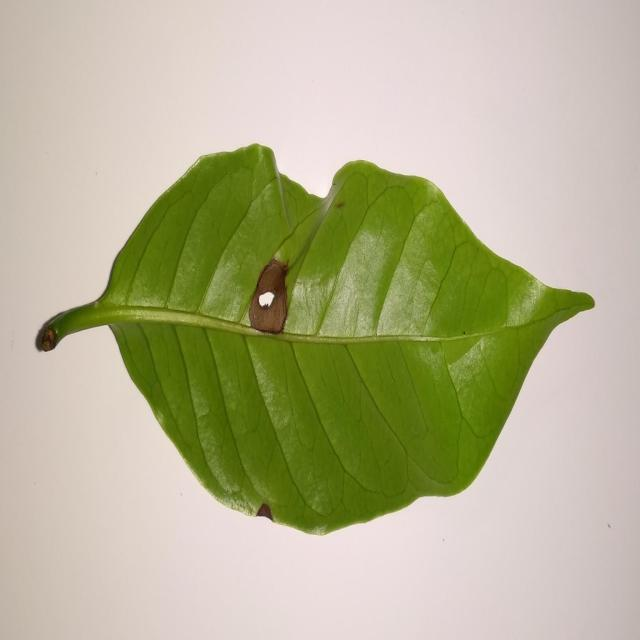phoma: (243, 239, 292, 335)
